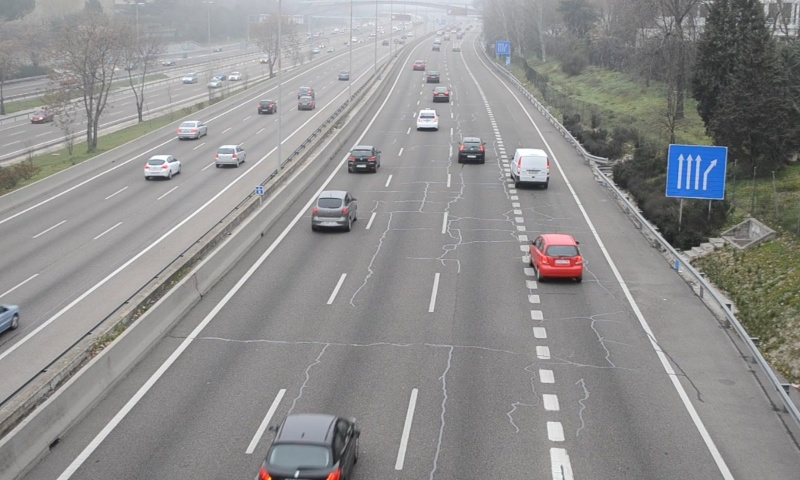car: (258, 413, 360, 480), (528, 232, 583, 278), (312, 190, 356, 230), (348, 145, 380, 170), (458, 136, 484, 162), (415, 107, 440, 132), (434, 84, 450, 103)
van: (512, 148, 551, 187)
